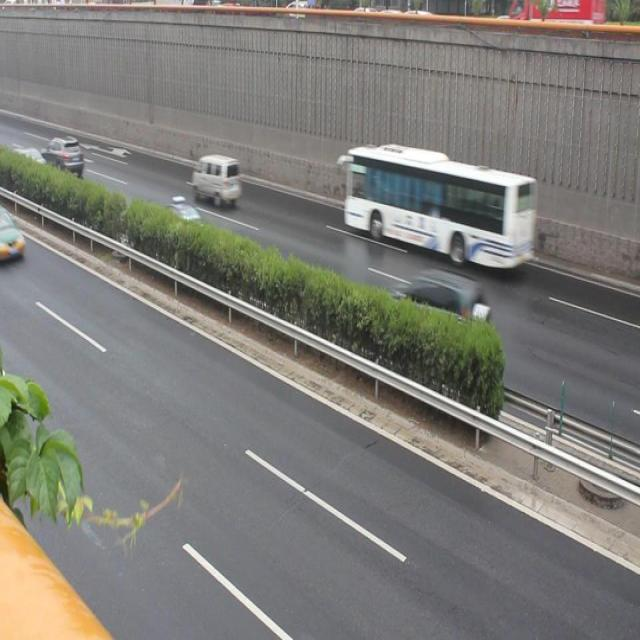car: (396, 266, 494, 350), (160, 196, 206, 246), (42, 135, 84, 180), (13, 145, 50, 181)
truck: (190, 150, 243, 206)
van: (339, 143, 530, 274)
